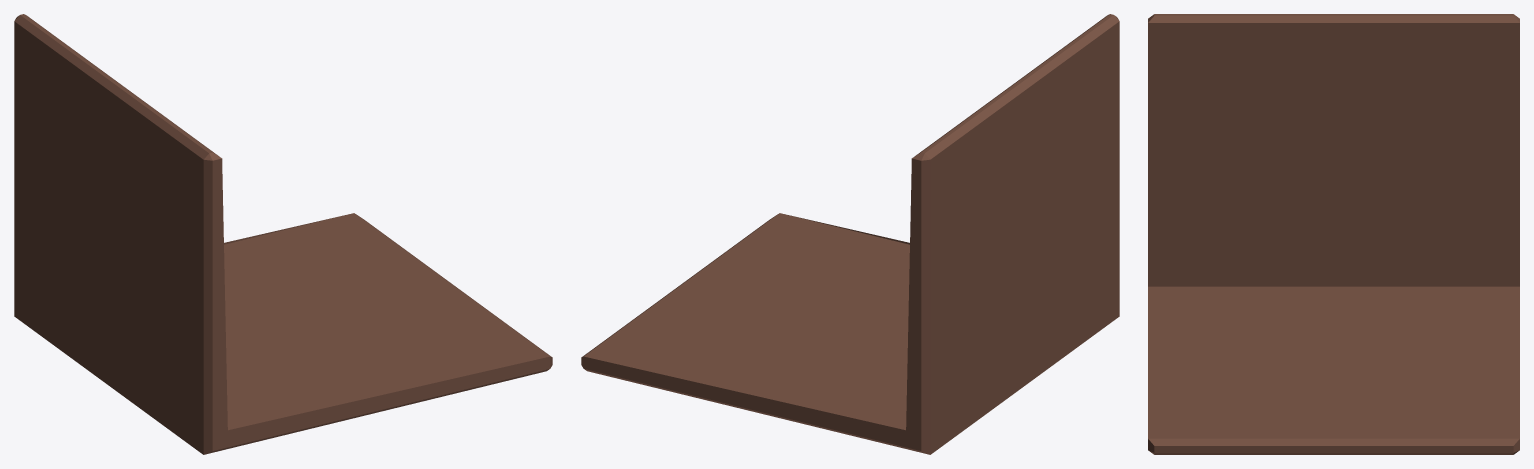
The picture shows the model from 3 angles, left to right: view 1: azimuth 30°, elevation 25°; view 2: azimuth 150°, elevation 25°; view 3: azimuth 270°, elevation 25°; orthographic projection. The views are drawn at different scales.
Visible parts, largest first — view 1: Cube.001; view 2: Cube.001; view 3: Cube.001.
Part boxes in pixels (left/top/right/bottom): Cube.001: left=14, top=14, right=552, bottom=454; Cube.001: left=581, top=14, right=1119, bottom=454; Cube.001: left=1148, top=14, right=1519, bottom=454.
Bounding box in the file's own units: 5.44 × 4.47 × 5.29.
